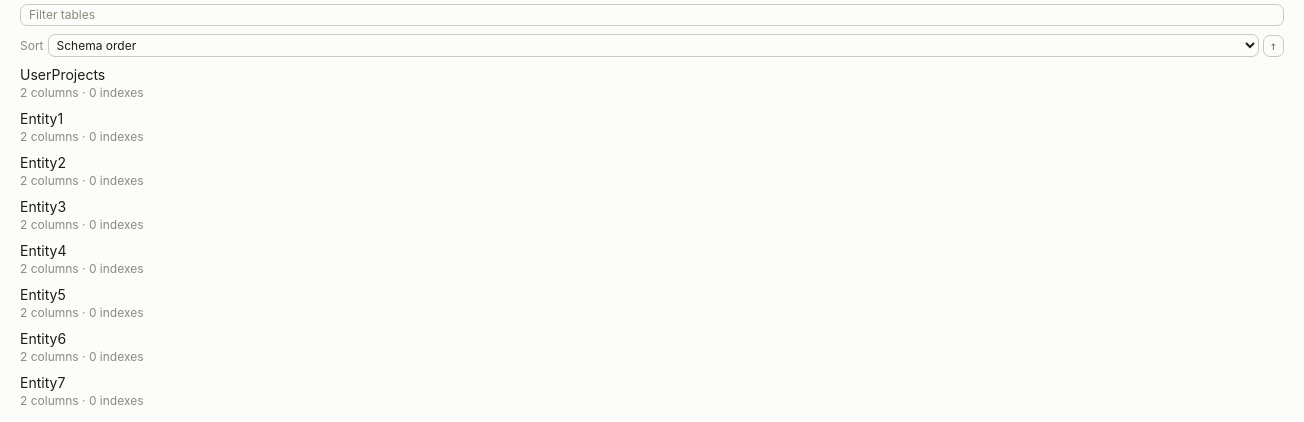
it: a filter matching nothing names what was searched for
This screenshot has width=1304, height=422.
Type "zzz" into the search field labelled "Filter tables".
click(652, 15); type("zzz")  # box [20,4,1284,26]
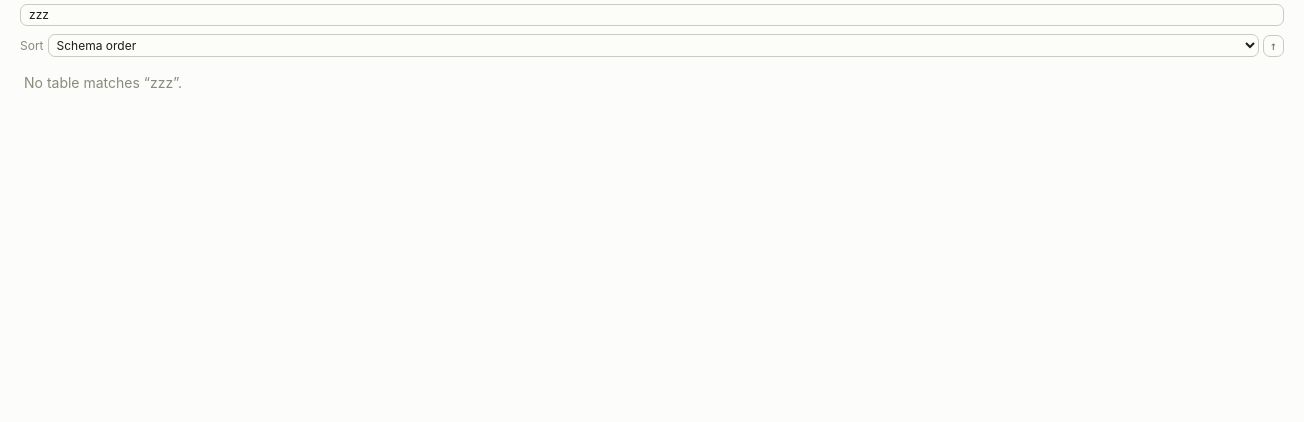
Now the text "No table matches “zzz”." is shown, box [24,74,182,91]
